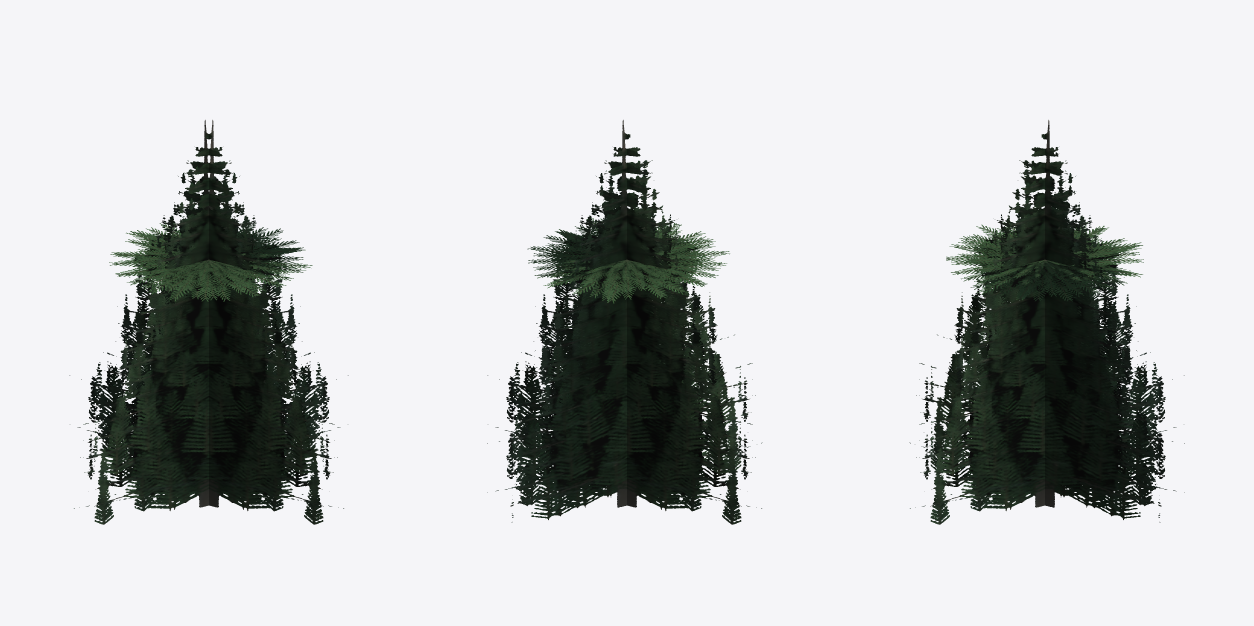
The model's file is Spruce_0_LOD3.glb.
3 renders of one model, left to right at view 1: azimuth 30°, elevation 25°; view 2: azimuth 150°, elevation 25°; view 3: azimuth 270°, elevation 25°, orthographic.
Parts seen in each view (by area): view 1: Spruce_0_LOD3; view 2: Spruce_0_LOD3; view 3: Spruce_0_LOD3.
Part boxes in pixels (x1,y1,x2,y2): Spruce_0_LOD3: (69, 120, 348, 524); Spruce_0_LOD3: (487, 120, 762, 524); Spruce_0_LOD3: (909, 120, 1184, 524).
Size of the model in its own units: 27.3 by 27.3 by 23.64.
Materials: 2 (2 with a texture image).
